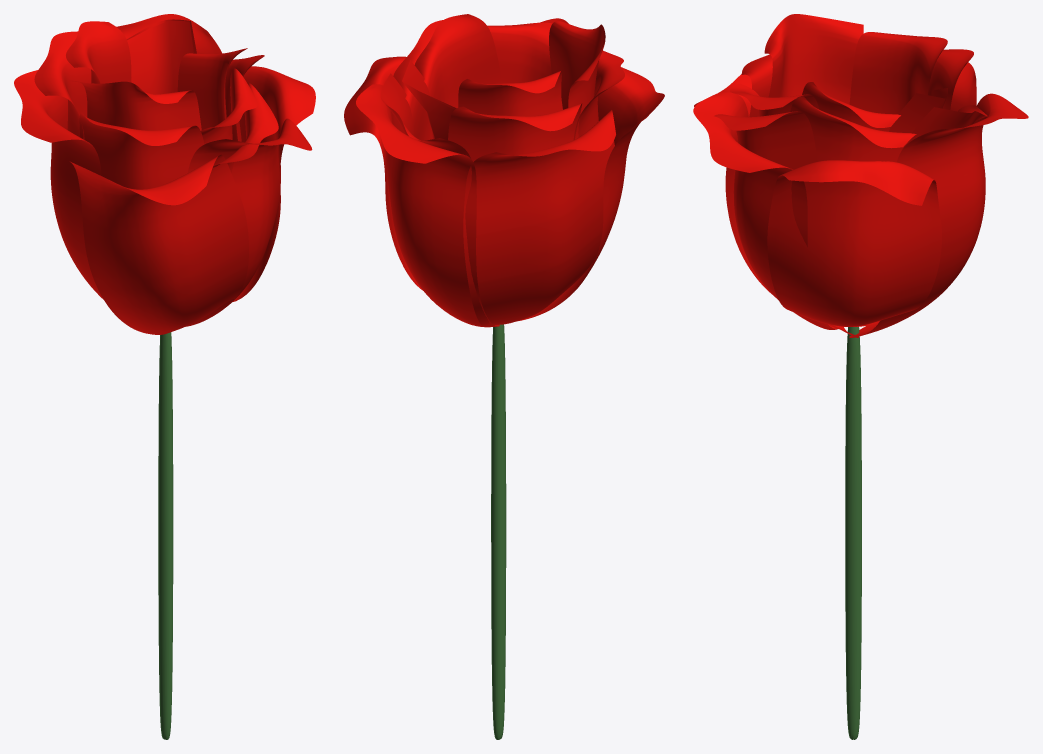
The model's file is red-rose.gltf.
3 renders of one model, left to right at view 1: azimuth 30°, elevation 25°; view 2: azimuth 150°, elevation 25°; view 3: azimuth 270°, elevation 25°, orthographic. The views are drawn at different scales.
Parts seen in each view (by area): view 1: pasted__pasted__pasted__pSphere4.002, pasted__pasted__pasted__pSphere3.002, pasted__pasted__pasted__pSphere3.001, pasted__pasted__pasted__normal_stem, pasted__pasted__pasted__pSphere5.002, pasted__pasted__pasted__pSphere3, pasted__pasted__pasted__pSphere1, pasted__pasted__pasted__pSphere1.002, pasted__pasted__pasted__pSphere2, pasted__pasted__pasted__pSphere2.001, pasted__pasted__pasted__pSphere5, pasted__pasted__pasted__pSphere4.001 (+3 smaller); view 2: pasted__pasted__pasted__pSphere3.002, pasted__pasted__pasted__pSphere2.002, pasted__pasted__pasted__normal_stem, pasted__pasted__pasted__pSphere5, pasted__pasted__pasted__pSphere2.001, pasted__pasted__pasted__pSphere4.002, pasted__pasted__pasted__pSphere3, pasted__pasted__pasted__pSphere2, pasted__pasted__pasted__pSphere4, pasted__pasted__pasted__pSphere1.002, pasted__pasted__pasted__pSphere1, pasted__pasted__pasted__pSphere1.001 (+2 smaller); view 3: pasted__pasted__pasted__pSphere1.002, pasted__pasted__pasted__pSphere2.002, pasted__pasted__pasted__pSphere5.002, pasted__pasted__pasted__pSphere3, pasted__pasted__pasted__normal_stem, pasted__pasted__pasted__pSphere2, pasted__pasted__pasted__pSphere5.001, pasted__pasted__pasted__pSphere4.001, pasted__pasted__pasted__pSphere5, pasted__pasted__pasted__pSphere2.001, pasted__pasted__pasted__pSphere1.001, pasted__pasted__pasted__pSphere1 (+4 smaller).
Part boxes in pixels (x1,y1,x2,y2): pasted__pasted__pasted__pSphere4.002: [70, 154, 248, 334]; pasted__pasted__pasted__pSphere3.002: [14, 70, 103, 299]; pasted__pasted__pasted__pSphere3.001: [79, 112, 204, 189]; pasted__pasted__pasted__normal_stem: [158, 332, 173, 739]; pasted__pasted__pasted__pSphere5.002: [186, 118, 312, 326]; pasted__pasted__pasted__pSphere3: [69, 80, 201, 130]; pasted__pasted__pasted__pSphere1: [127, 20, 193, 94]; pasted__pasted__pasted__pSphere1.002: [233, 66, 315, 301]; pasted__pasted__pasted__pSphere2: [66, 21, 131, 83]; pasted__pasted__pasted__pSphere2.001: [34, 31, 91, 139]; pasted__pasted__pasted__pSphere5: [177, 48, 247, 129]; pasted__pasted__pasted__pSphere4.001: [213, 83, 278, 172]; pasted__pasted__pasted__pSphere3.002: [463, 109, 615, 326]; pasted__pasted__pasted__pSphere2.002: [356, 84, 499, 327]; pasted__pasted__pasted__normal_stem: [491, 324, 506, 739]; pasted__pasted__pasted__pSphere5: [414, 14, 501, 108]; pasted__pasted__pasted__pSphere2.001: [448, 103, 582, 161]; pasted__pasted__pasted__pSphere4.002: [517, 67, 664, 321]; pasted__pasted__pasted__pSphere3: [549, 21, 605, 114]; pasted__pasted__pasted__pSphere2: [458, 70, 562, 116]; pasted__pasted__pasted__pSphere4: [487, 22, 552, 83]; pasted__pasted__pasted__pSphere1.002: [344, 56, 422, 290]; pasted__pasted__pasted__pSphere1: [402, 60, 456, 139]; pasted__pasted__pasted__pSphere1.001: [380, 73, 470, 158]; pasted__pasted__pasted__pSphere1.002: [767, 160, 941, 326]; pasted__pasted__pasted__pSphere2.002: [849, 93, 1028, 337]; pasted__pasted__pasted__pSphere5.002: [693, 92, 839, 329]; pasted__pasted__pasted__pSphere3: [764, 14, 863, 104]; pasted__pasted__pasted__normal_stem: [845, 327, 861, 739]; pasted__pasted__pasted__pSphere2: [849, 32, 947, 114]; pasted__pasted__pasted__pSphere5.001: [790, 96, 916, 162]; pasted__pasted__pasted__pSphere4.001: [714, 111, 817, 169]; pasted__pasted__pasted__pSphere5: [802, 82, 900, 131]; pasted__pasted__pasted__pSphere2.001: [928, 49, 973, 109]; pasted__pasted__pasted__pSphere1.001: [901, 105, 987, 151]; pasted__pasted__pasted__pSphere1: [889, 88, 947, 132].
Size of the model in its own units: 0.0393 by 0.1021 by 0.045.
